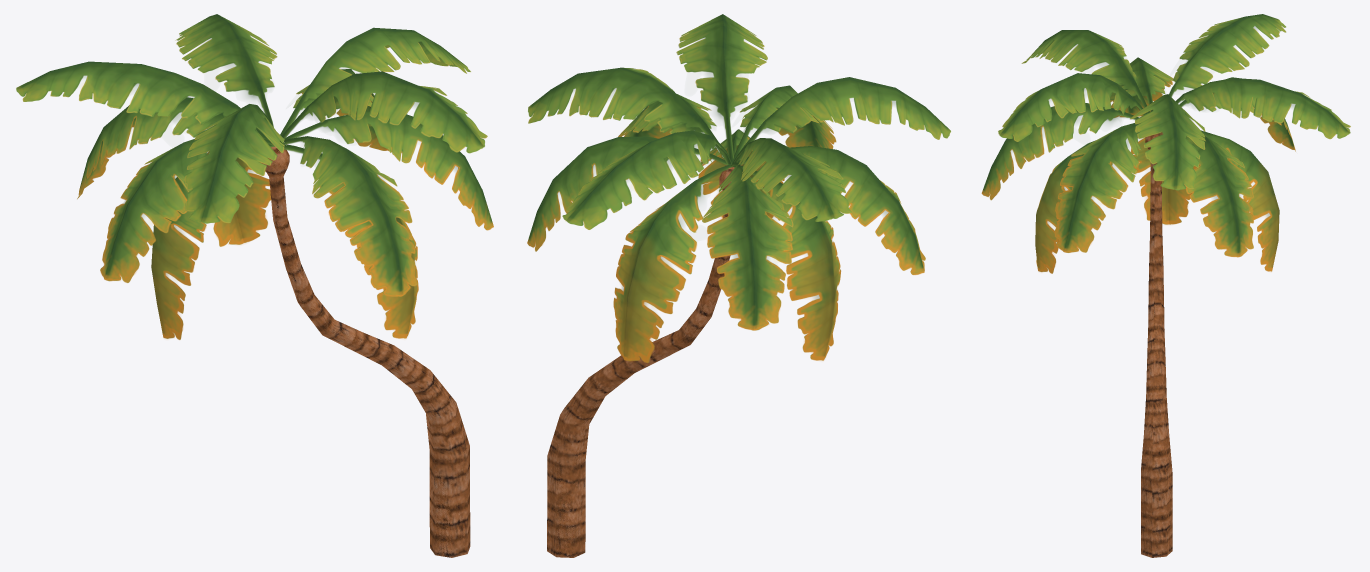
File: first_palm.glb
The picture shows the model from 3 angles, left to right: view 1: azimuth 30°, elevation 25°; view 2: azimuth 150°, elevation 25°; view 3: azimuth 270°, elevation 25°; orthographic projection. The views are drawn at different scales.
Visible parts, largest first — view 1: Leaf_1, Bark_1; view 2: Leaf_1, Bark_1; view 3: Leaf_1, Bark_1.
Boxes of the visible parts, bbox=[...] form: Leaf_1: bbox=[16, 14, 493, 339]; Bark_1: bbox=[261, 146, 470, 557]; Leaf_1: bbox=[527, 14, 950, 362]; Bark_1: bbox=[547, 165, 741, 557]; Leaf_1: bbox=[981, 14, 1350, 273]; Bark_1: bbox=[1141, 132, 1172, 557].
Size of the model in its own units: 3.03 by 3.91 by 3.07.
4 materials, 4 textured.
